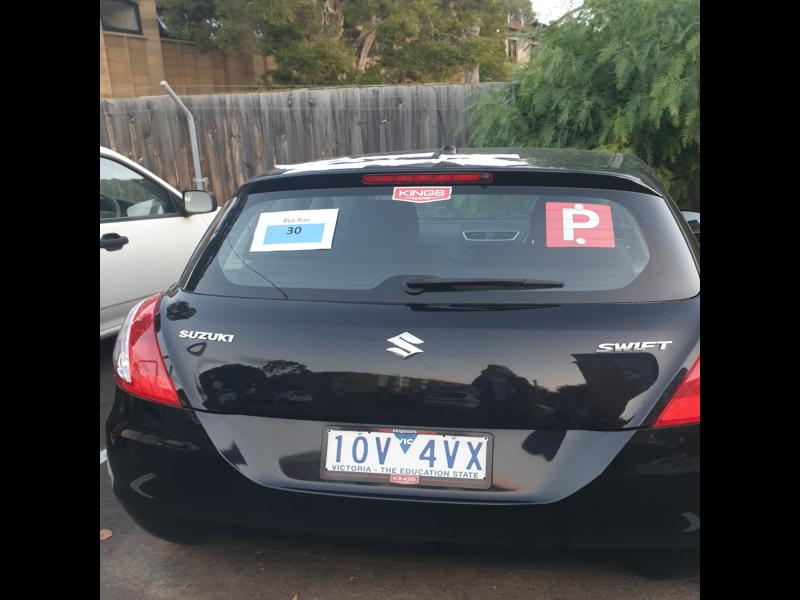BusRun: (265, 224, 325, 244)
PlateNo: (323, 428, 489, 481)
